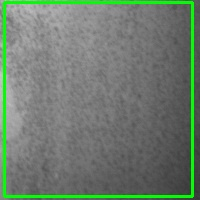pitted_surface: (4, 2, 192, 196)
